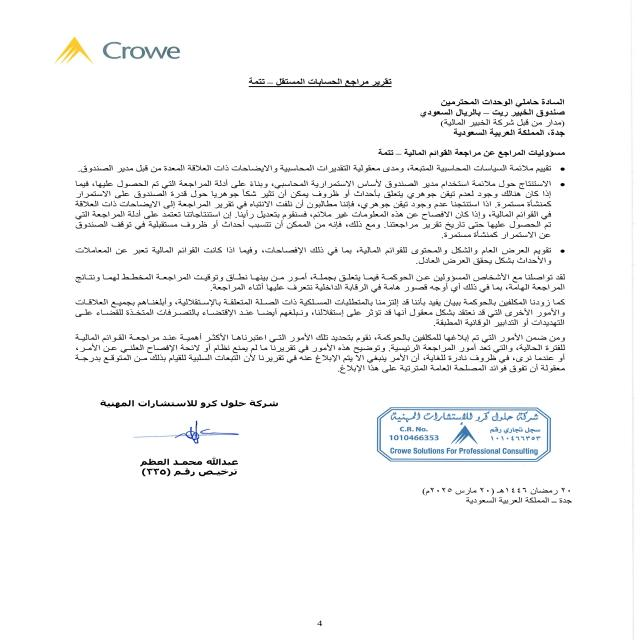auditor_report: (361, 146, 587, 159), (235, 80, 391, 95)
